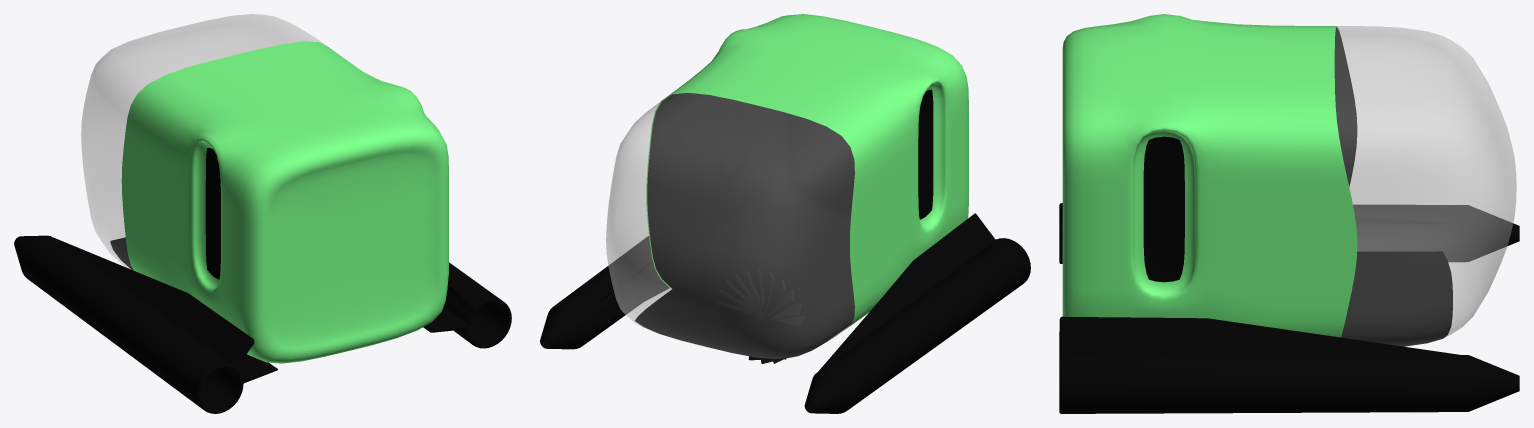
The model's file is submarine.fbx.
The picture shows the model from 3 angles, left to right: view 1: azimuth 30°, elevation 25°; view 2: azimuth 150°, elevation 25°; view 3: azimuth 270°, elevation 25°; orthographic projection. The views are drawn at different scales.
Visible parts, largest first — view 1: Cube, Cube.001; view 2: Cube, Cube.001, prop; view 3: Cube, Cube.001.
Part boxes in pixels (x1,y1,x2,y2): Cube: [81, 14, 448, 363]; Cube.001: [14, 235, 511, 413]; Cube: [606, 14, 968, 358]; Cube.001: [540, 213, 1030, 413]; prop: [715, 269, 804, 363]; Cube: [1062, 14, 1516, 346]; Cube.001: [1059, 203, 1519, 413].
Bounding box in the file's own units: 305 × 242 × 337.
